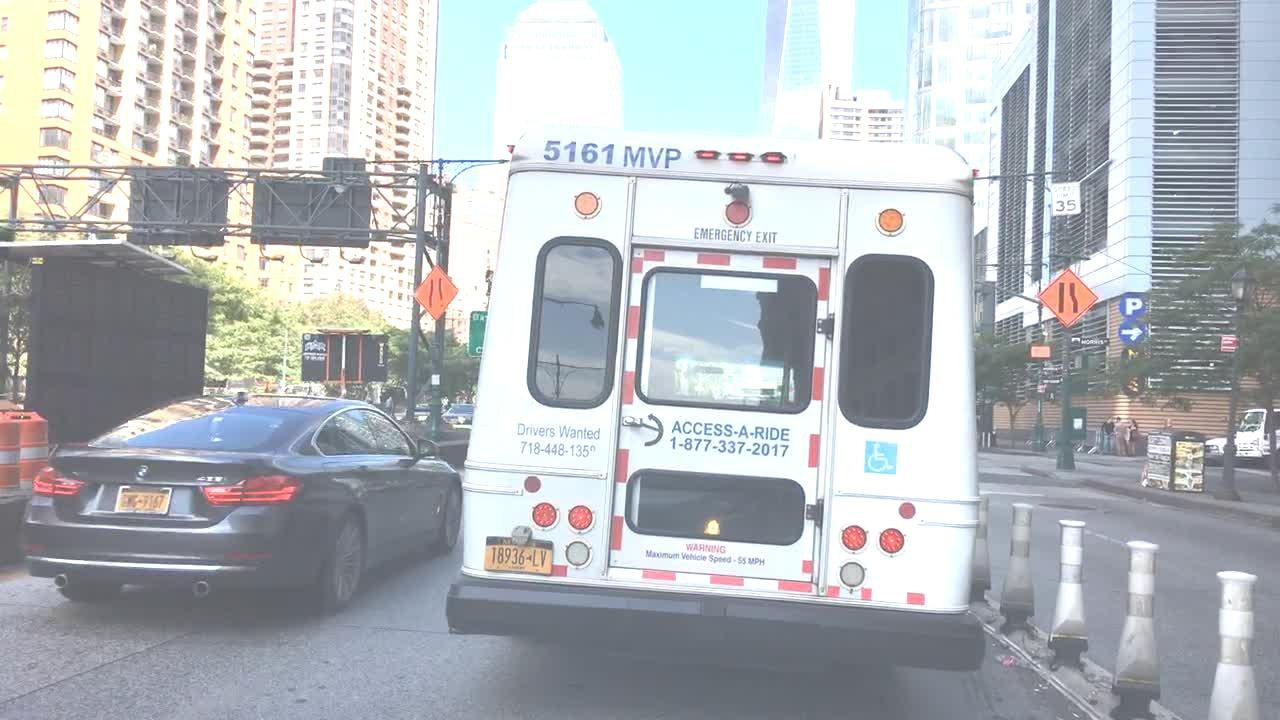bmw: (133, 459, 155, 484)
